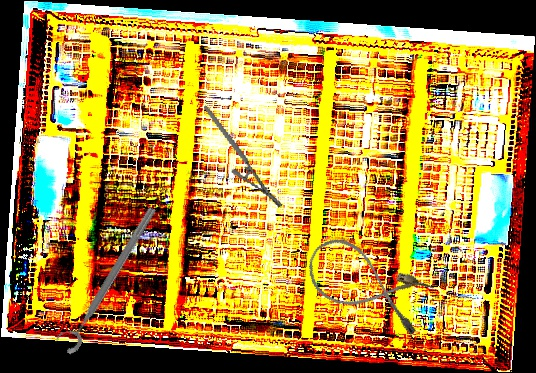Cannula: (297, 230, 438, 340)
Fixation Ring: (51, 199, 161, 357)
Needle Holder: (203, 92, 284, 221)
